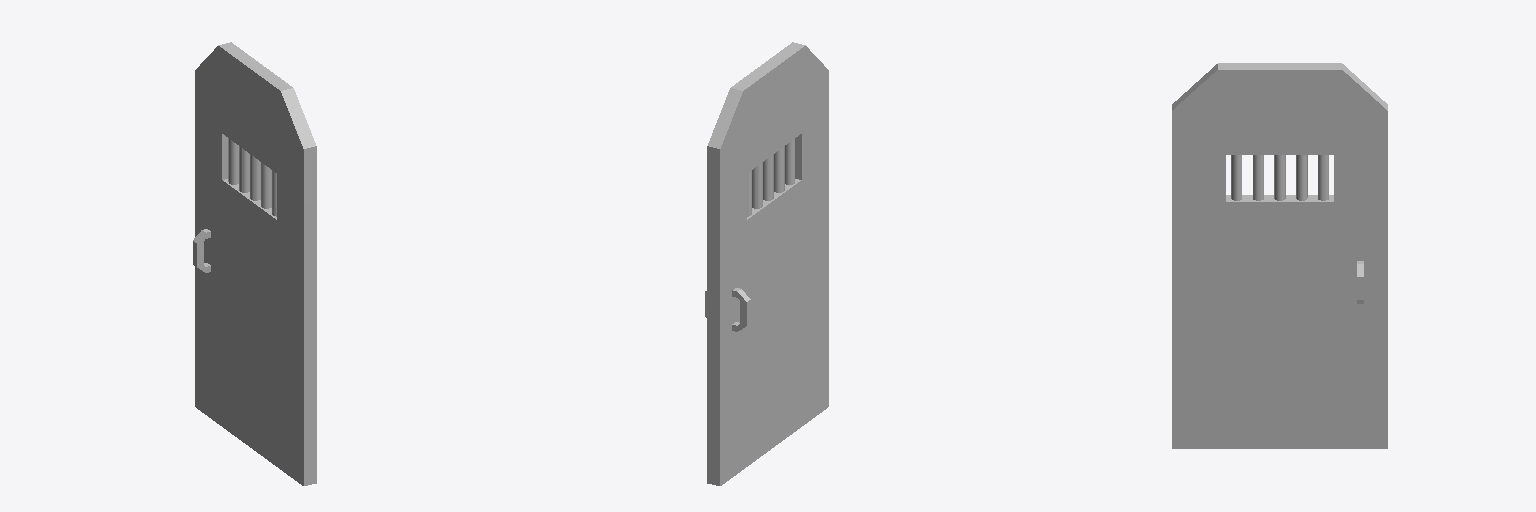
Rendered from Door.obj.
3 views of the same model, side by side, from view 1: azimuth 30°, elevation 25°; view 2: azimuth 150°, elevation 25°; view 3: azimuth 270°, elevation 25° (orthographic).
Parts seen in each view (by area): view 1: Door-col; view 2: Door-col; view 3: Door-col.
Boxes of the visible parts, x1=… form: Door-col: x1=193, y1=42, x2=316, y2=485; Door-col: x1=705, y1=42, x2=828, y2=485; Door-col: x1=1172, y1=63, x2=1387, y2=448.
Bounding box in the file's own units: 0.1955 × 1.68 × 0.8725.